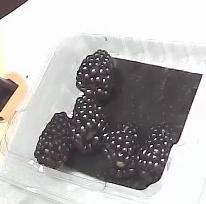berry: (69, 90, 107, 151), (34, 112, 72, 168), (135, 126, 172, 181), (76, 49, 115, 101), (103, 125, 139, 177)
